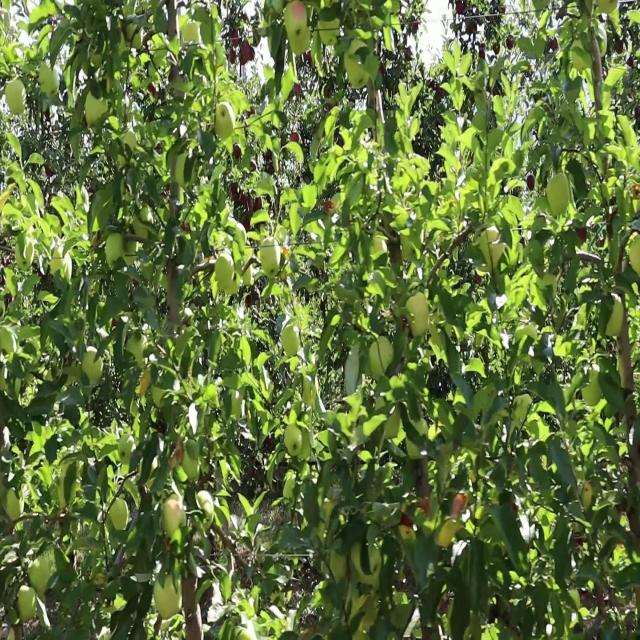apple: (408, 291, 431, 340), (156, 575, 180, 620), (288, 14, 311, 57), (548, 177, 571, 217), (84, 348, 104, 384), (608, 298, 624, 340), (8, 78, 25, 114), (112, 497, 128, 532), (164, 497, 183, 526), (20, 590, 36, 624), (108, 234, 124, 265), (8, 92, 26, 116), (452, 497, 468, 519), (140, 369, 152, 398), (400, 511, 415, 532), (292, 7, 308, 25), (172, 440, 184, 464), (244, 42, 256, 64), (420, 497, 432, 516), (548, 35, 560, 52), (232, 184, 242, 204), (232, 28, 241, 50), (456, 0, 468, 14), (632, 184, 640, 201), (228, 49, 237, 64), (468, 21, 477, 36), (528, 177, 536, 192), (616, 42, 624, 57), (148, 85, 156, 98), (480, 49, 487, 60), (508, 42, 515, 50), (292, 135, 300, 142), (236, 149, 242, 158), (112, 319, 118, 327)
